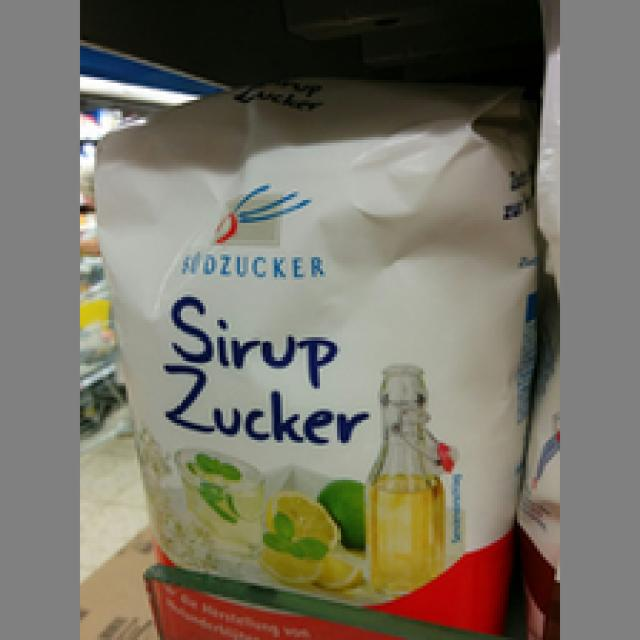groceries: (92, 72, 537, 637)
